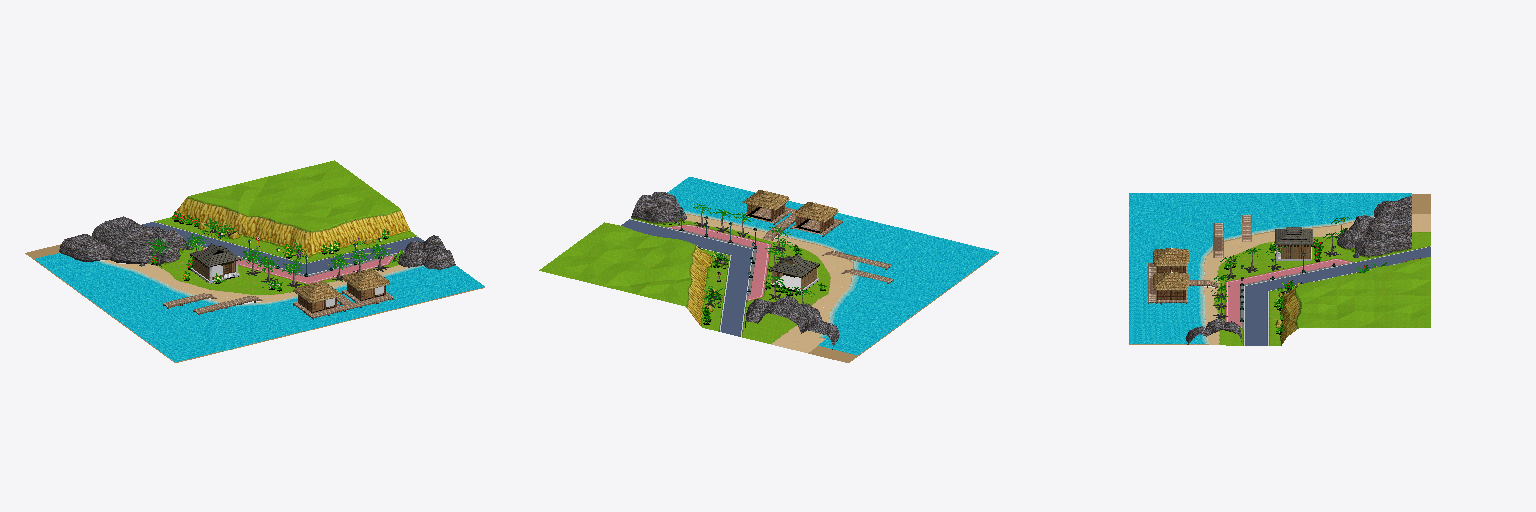
The picture shows the model from 3 angles: view 1: azimuth 30°, elevation 25°; view 2: azimuth 150°, elevation 25°; view 3: azimuth 270°, elevation 25°; orthographic projection.
Parts seen in each view (by area): view 1: polygon58, polygon48, polygon33, polygon45, polygon32, polygon36, polygon52, polygon24, polygon27, polygon42, polygon59, polygon14 (+4 smaller); view 2: polygon58, polygon48, polygon32, polygon42, polygon45, polygon27, polygon24, polygon33, polygon59, polygon26, polygon14, polygon36 (+4 smaller); view 3: polygon58, polygon48, polygon32, polygon45, polygon42, polygon27, polygon59, polygon24, polygon14, polygon36, polygon26, polygon33 (+3 smaller).
Boxes of the visible parts, box(x1,y1,x2,y2) form: polygon58: box(35, 253, 484, 361); polygon48: box(156, 160, 416, 293); polygon33: box(172, 196, 410, 255); polygon45: box(59, 216, 455, 269); polygon32: box(142, 221, 424, 272); polygon36: box(61, 219, 181, 263); polygon52: box(148, 218, 390, 275); polygon24: box(163, 290, 393, 316); polygon27: box(201, 247, 395, 284); polygon42: box(104, 260, 407, 302); polygon59: box(93, 260, 425, 307); polygon14: box(295, 269, 388, 300); polygon58: box(667, 177, 998, 354); polygon48: box(539, 220, 826, 342); polygon32: box(621, 218, 748, 337); polygon42: box(686, 214, 852, 352); polygon45: box(634, 192, 839, 349); polygon27: box(668, 224, 772, 301); polygon24: box(745, 207, 893, 282); polygon33: box(685, 244, 712, 326); polygon59: box(683, 208, 863, 338); polygon26: box(684, 218, 835, 344); polygon14: box(743, 190, 837, 220); polygon36: box(746, 300, 838, 341); polygon58: box(1129, 193, 1411, 343); polygon48: box(1219, 234, 1430, 345); polygon32: box(1242, 246, 1430, 345); polygon45: box(1186, 196, 1411, 344); polygon42: box(1195, 214, 1430, 344); polygon27: box(1223, 258, 1353, 327); polygon59: box(1195, 213, 1373, 343); polygon24: box(1148, 215, 1251, 301); polygon14: box(1154, 248, 1188, 287); polygon36: box(1351, 198, 1411, 248); polygon26: box(1209, 230, 1430, 344); polygon33: box(1280, 286, 1301, 345).
Size of the model in its own units: 9.56 by 0.8562 by 8.
Materials: 64 (62 with a texture image).